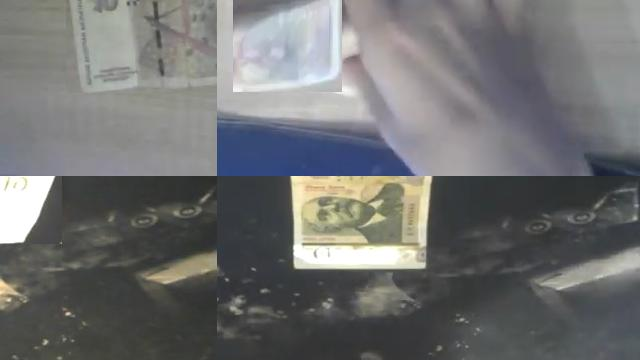10leva: (233, 0, 342, 92)
